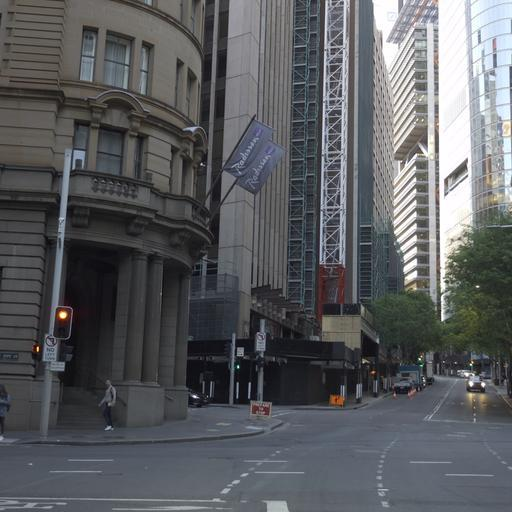Street light: (37, 120, 208, 438), (181, 124, 208, 169), (52, 305, 73, 340), (417, 355, 423, 366)
